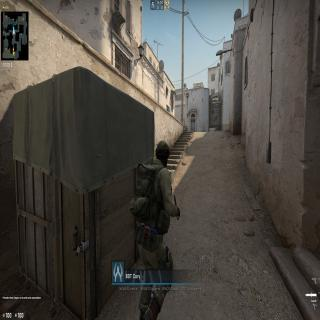CT-Head: (155, 139, 171, 168)
